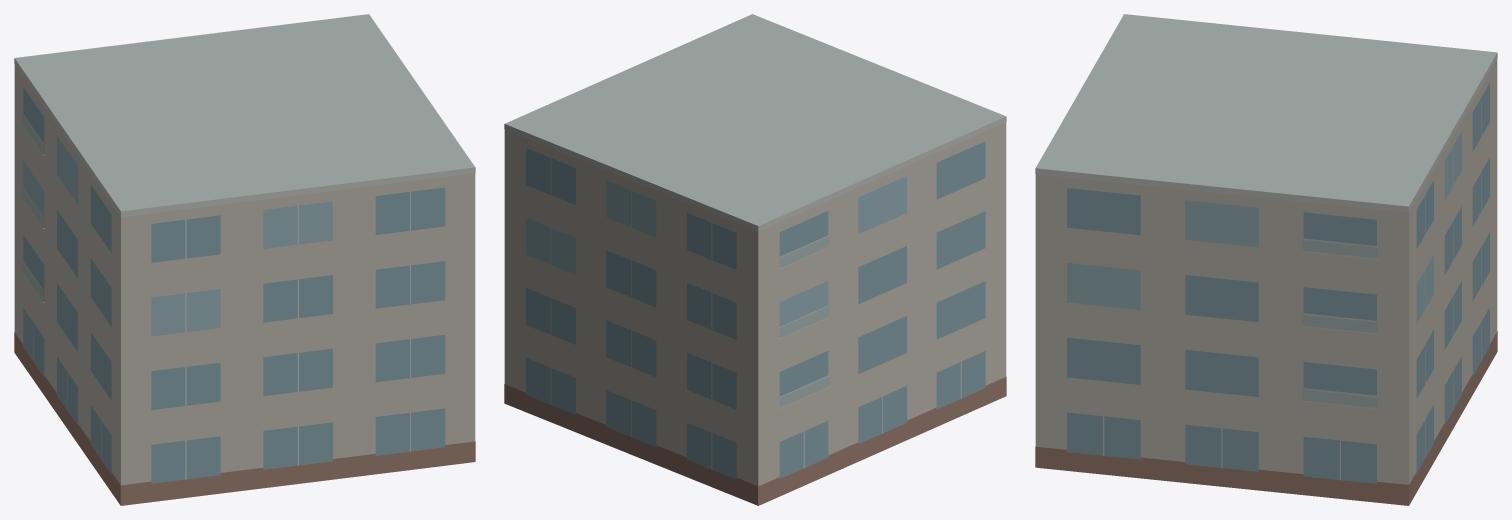
The model's file is residential-642b9de5-1e2c-492e-b9be-d592ab1166f6.glb.
3 views of the same model, side by side, from view 1: azimuth 30°, elevation 25°; view 2: azimuth 150°, elevation 25°; view 3: azimuth 270°, elevation 25° (orthographic). The views are drawn at different scales.
Parts seen in each view (by area): view 1: residential-642b9de5-1e2c-492e-b9be-d592ab1166f6.tmp; view 2: residential-642b9de5-1e2c-492e-b9be-d592ab1166f6.tmp; view 3: residential-642b9de5-1e2c-492e-b9be-d592ab1166f6.tmp.
Part boxes in pixels (box(x1,y1,x2,y2)): residential-642b9de5-1e2c-492e-b9be-d592ab1166f6.tmp: box(14, 14, 475, 505); residential-642b9de5-1e2c-492e-b9be-d592ab1166f6.tmp: box(504, 14, 1006, 505); residential-642b9de5-1e2c-492e-b9be-d592ab1166f6.tmp: box(1035, 14, 1497, 505).
Bounding box in the file's own units: 16.84 × 12.2 × 17.08.
